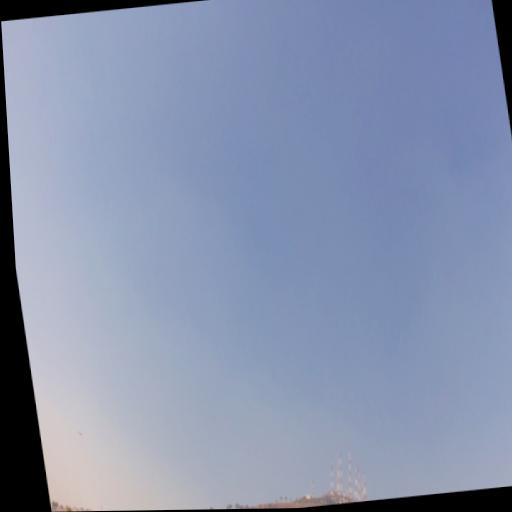drones: (77, 431, 84, 438)
